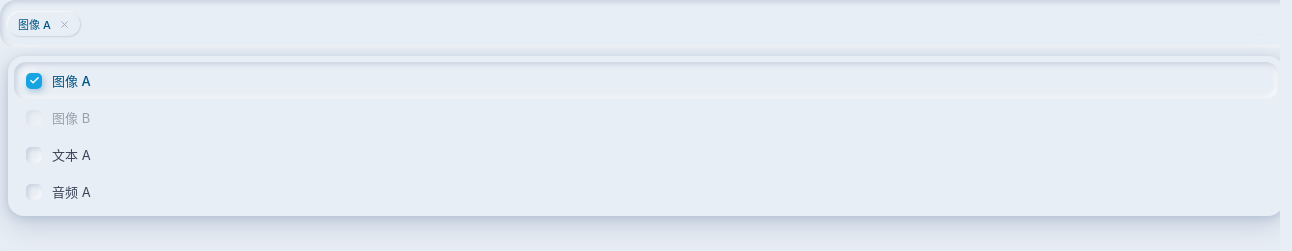
表单与选择器回归 › Select 同时遵守最大选择数和基于当前选择的动态禁用规则
Expected: the option "图像 A" is enabled, [14,62,1278,99]
Expected: the option "图像 B" is disabled, [14,99,1278,136]
What coordinates should you click on to do the following:
click the option "文本 A"
I would click on:
 (71, 155)
Its box is [14,136,1278,173].
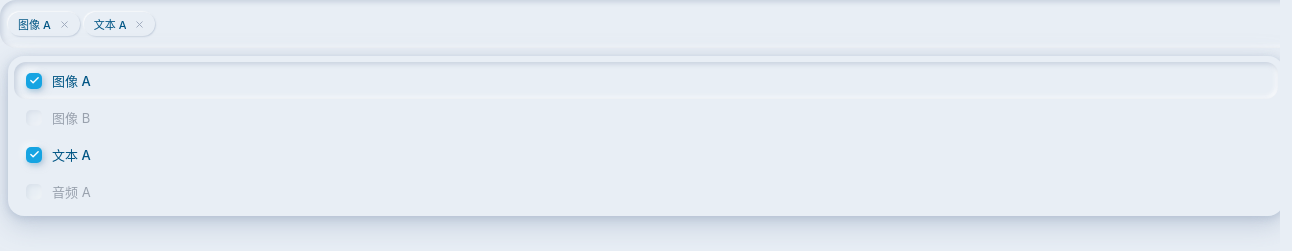
Expected: the option "音频 A" is disabled, [14,173,1278,210]
What coordinates should you click on to do the following:
click the option "图像 A"
I would click on:
 (71, 81)
Its box is [14,62,1278,99].
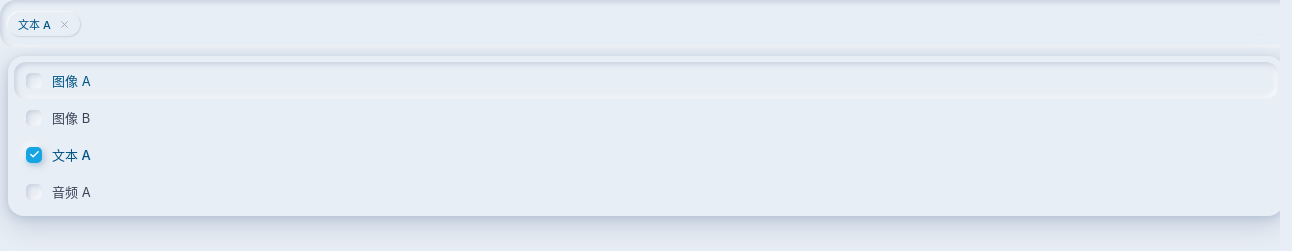
Expected: the option "图像 B" is enabled, [14,99,1278,136]
Expected: the option "音频 A" is enabled, [14,173,1278,210]
